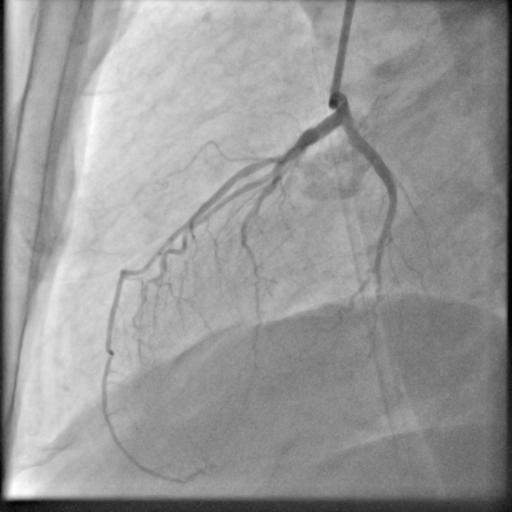Stenosis: (278, 141, 307, 161)
